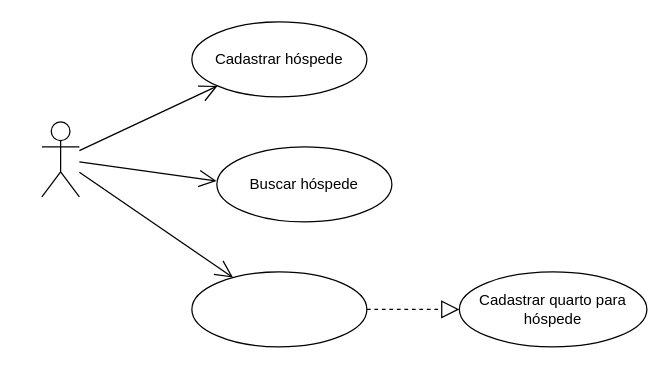
The diagram is 669 pixels wide and 369 high, and some of its shapes have lost their labels. The shapes that lost their labels are listed below. From the top down, each one's centre as x and y in pixels, then its label:
(60,159): Funcionário
(279,309): Disponibilidade de quartos
